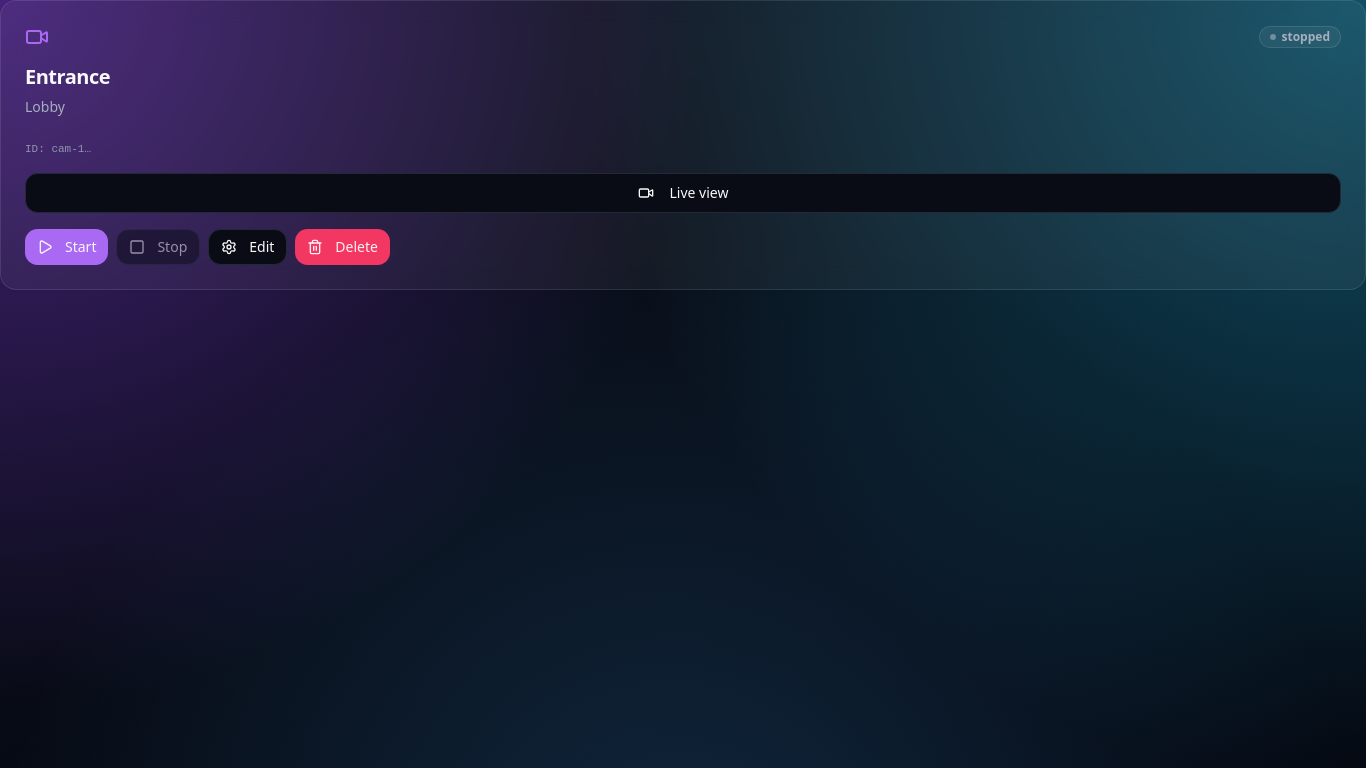
Test: rejected control displays an error without an accepted status
Click the button "Start" at (67, 247), box [25,229,108,265]
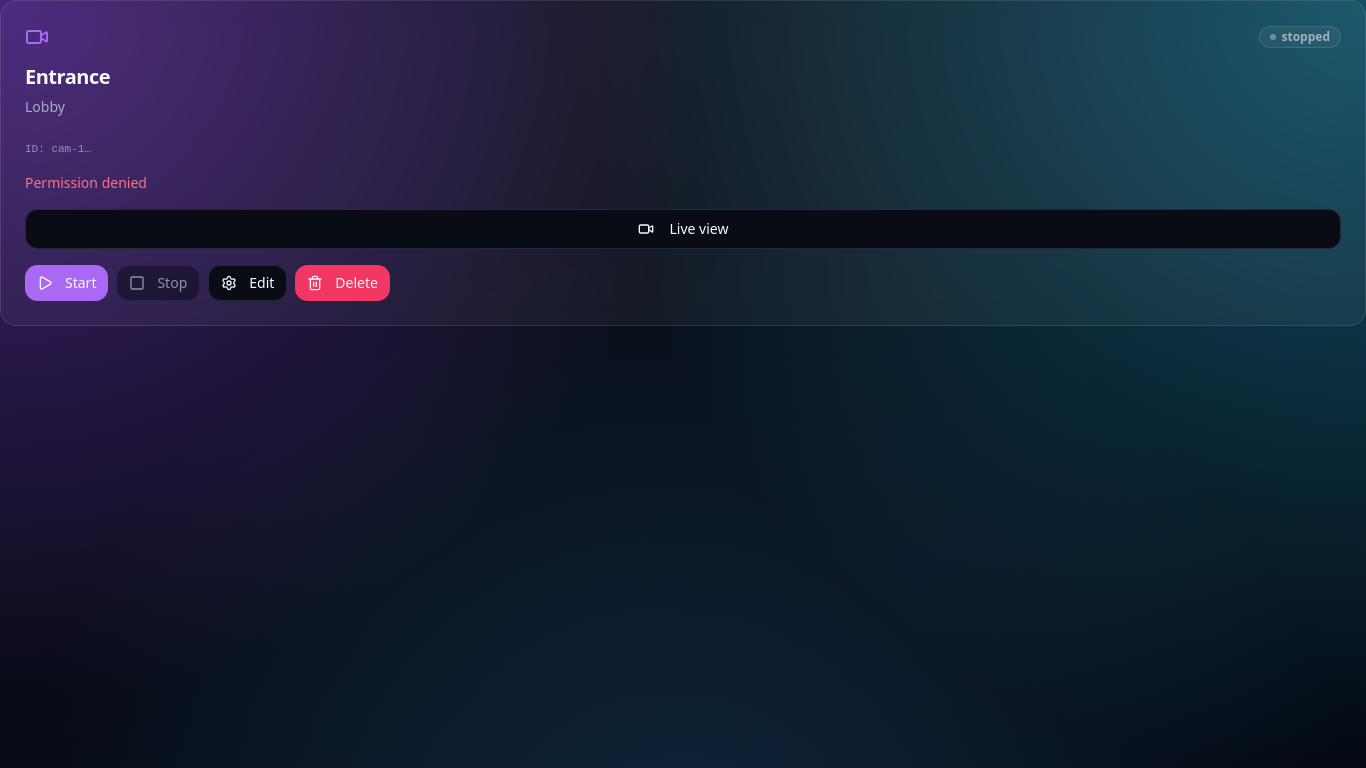
Expected: the message reads "Permission denied", [25,173,147,192]
